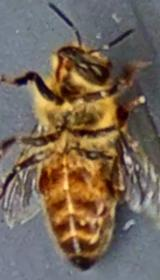varroa_mite: (34, 160, 55, 196)
